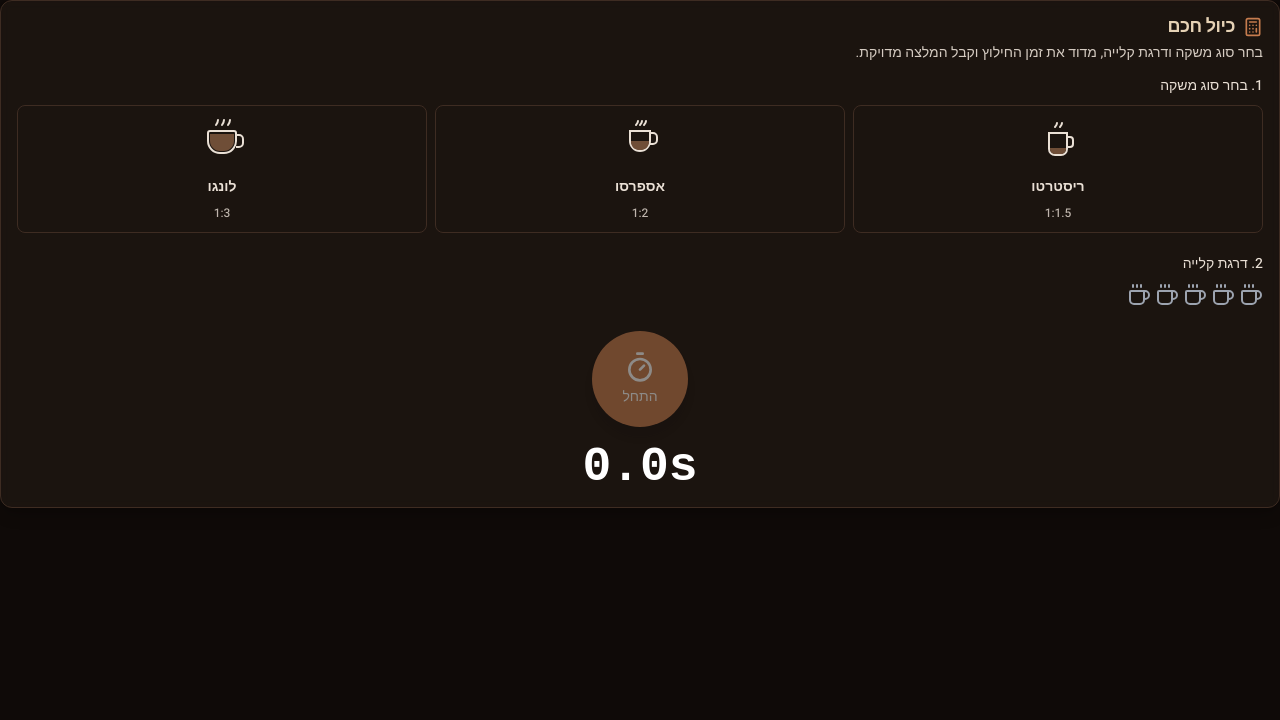
SmartDialIn › displays feedback after calculation
Step 1. Click the button "אספרסו 1:2" → (640, 141), box [435,105,845,233]
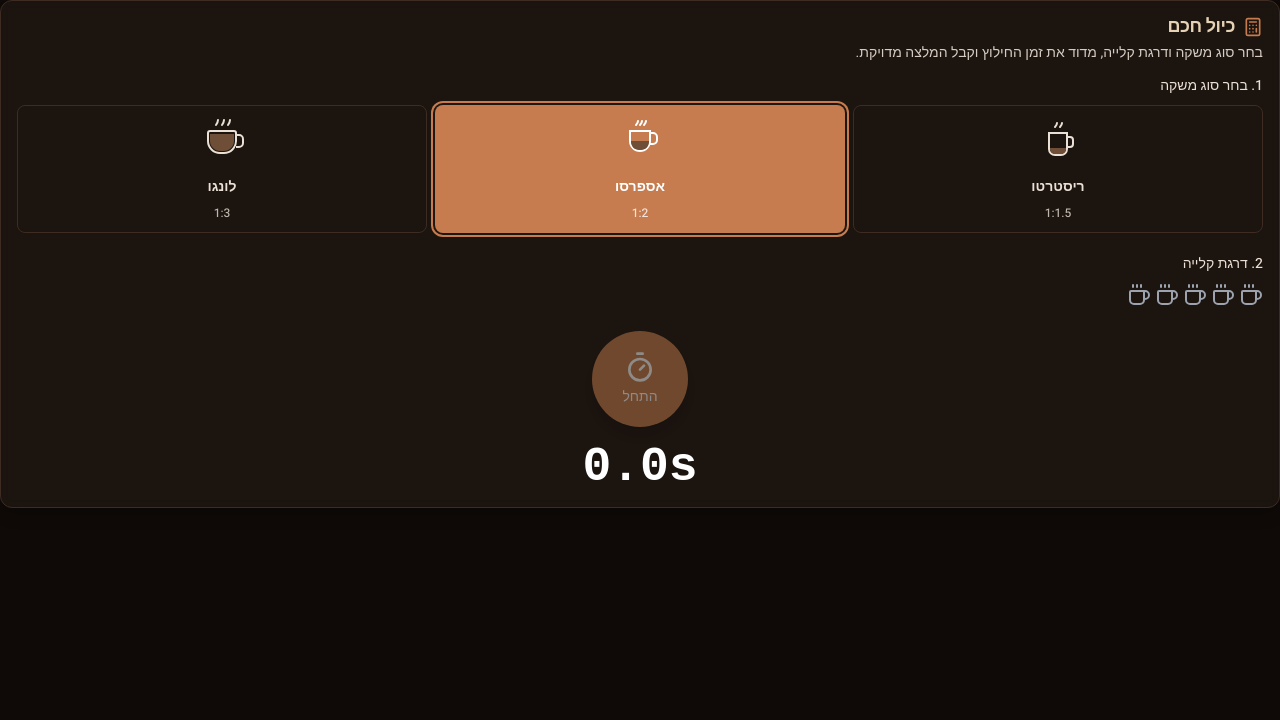
Step 2. Click the radio button named "דרגת קלייה 4 מתוך 5" → (1167, 295), box [1155,283,1179,307]
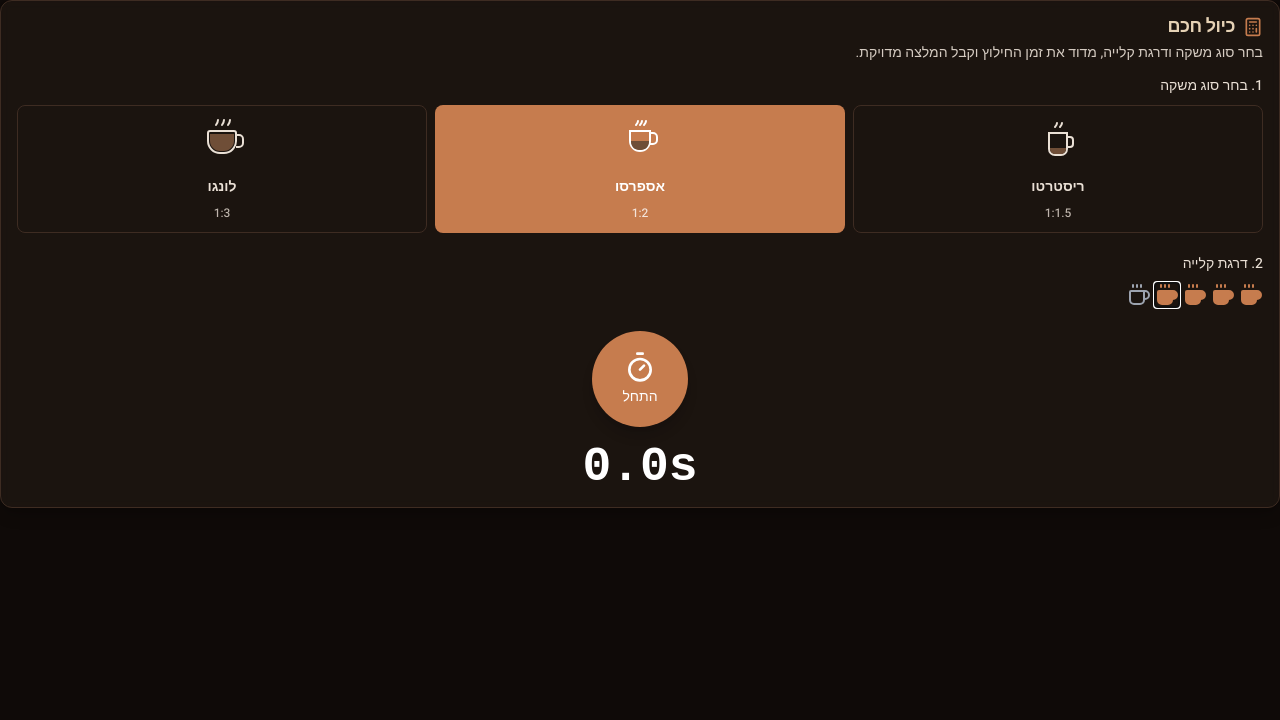
Step 3. Click the button "התחל" → (640, 379), box [592,331,688,427]
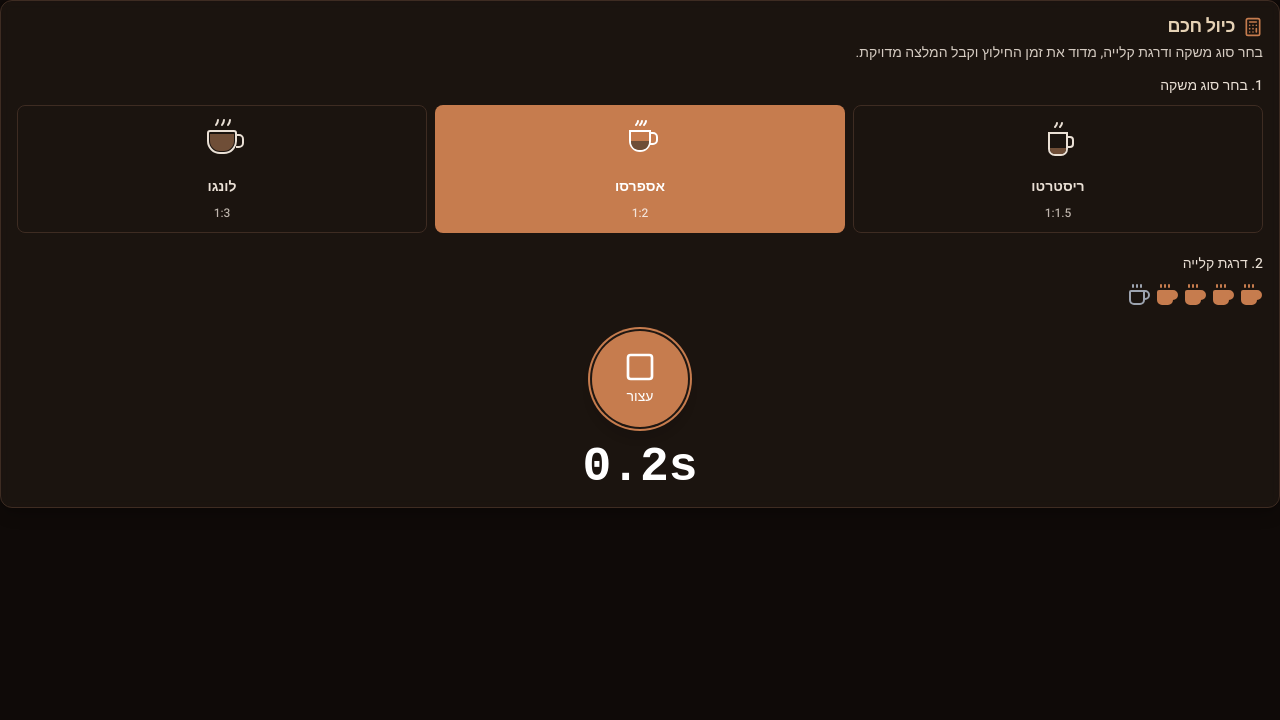
Step 4. Click the button "עצור" → (640, 379), box [592,331,688,427]
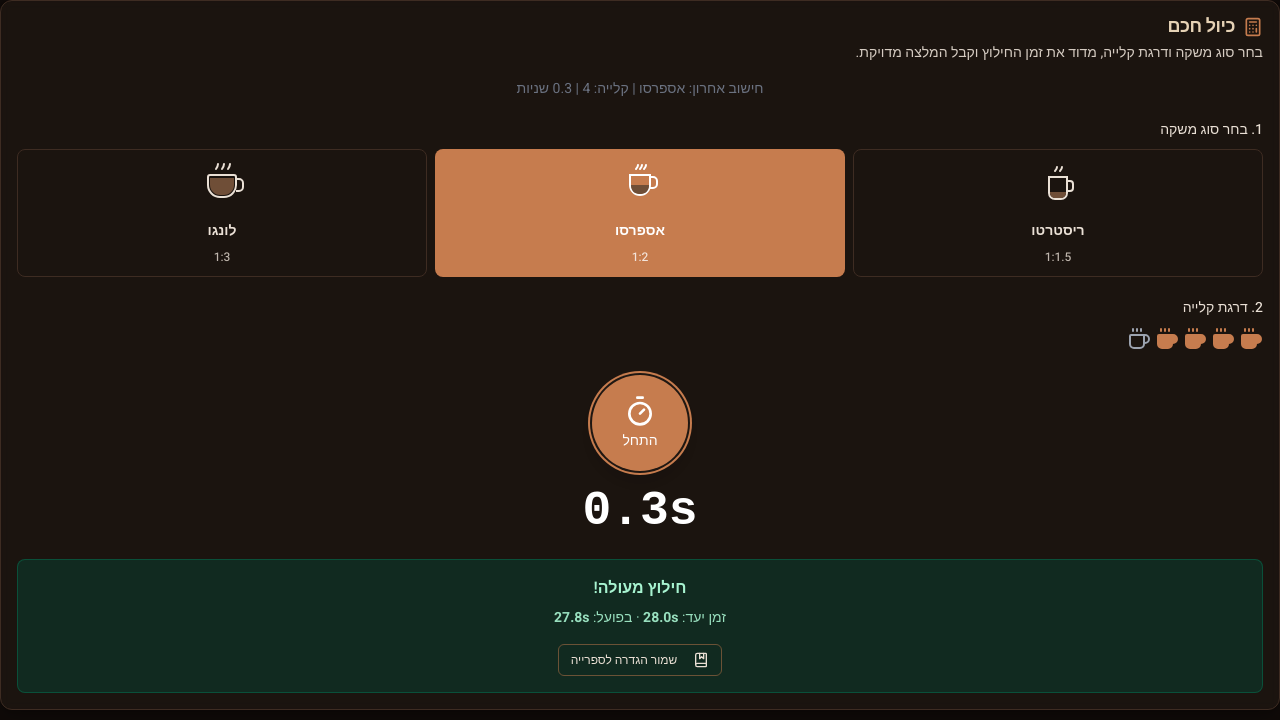
expect the text "חילוץ מעולה!" is shown: met, box [594,576,686,600]
